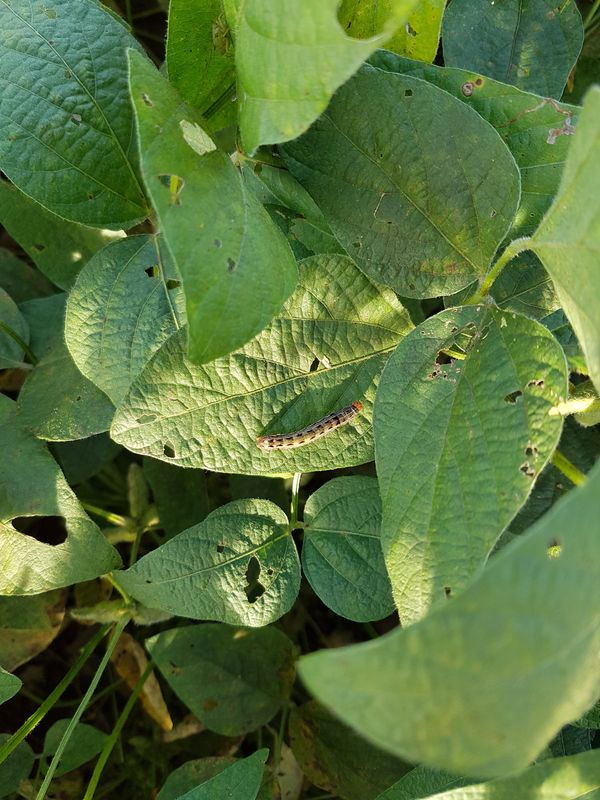Spodoptera_albula: (245, 390, 373, 475)
